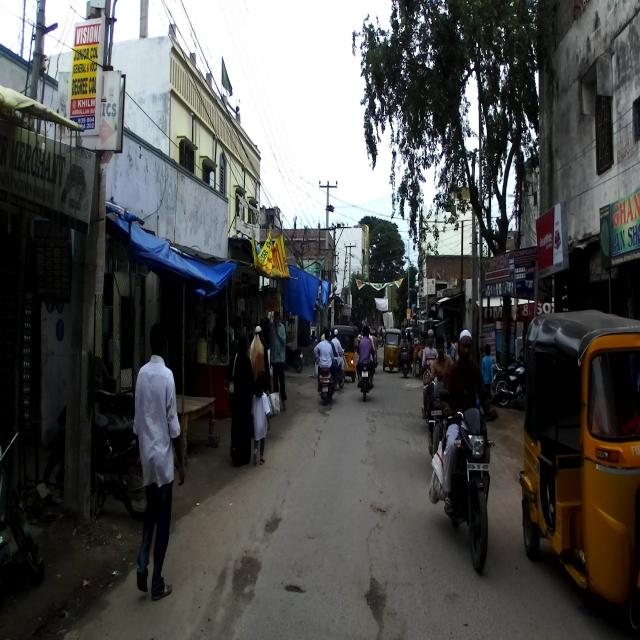autorickshaw: (517, 307, 640, 639)
motorcycle: (42, 392, 154, 524), (428, 391, 501, 573), (0, 423, 44, 596), (494, 346, 526, 408)
